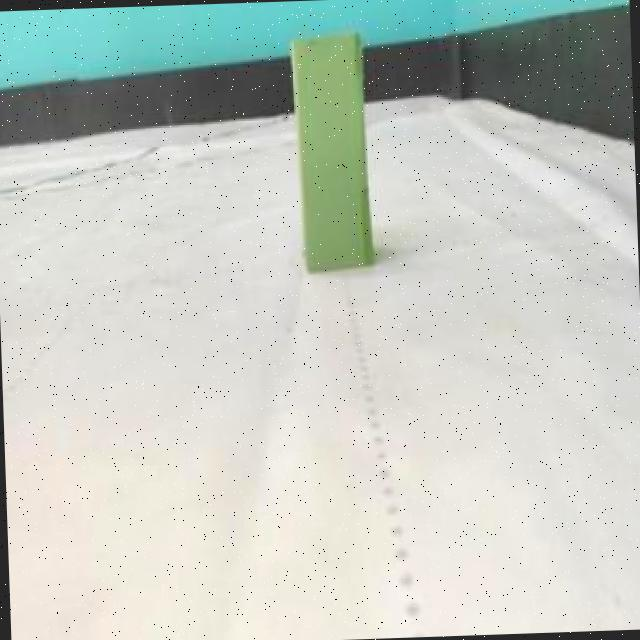greenbox: (290, 25, 374, 274)
